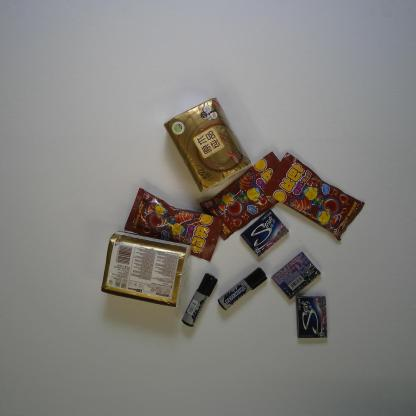Candy: (264, 151, 366, 242), (124, 187, 224, 262), (201, 149, 281, 242)
Gum: (270, 249, 323, 301), (239, 209, 289, 258), (294, 295, 328, 339)
Stationery: (216, 266, 268, 312), (181, 272, 218, 327)
Tissue: (162, 97, 252, 192), (99, 229, 194, 310)
